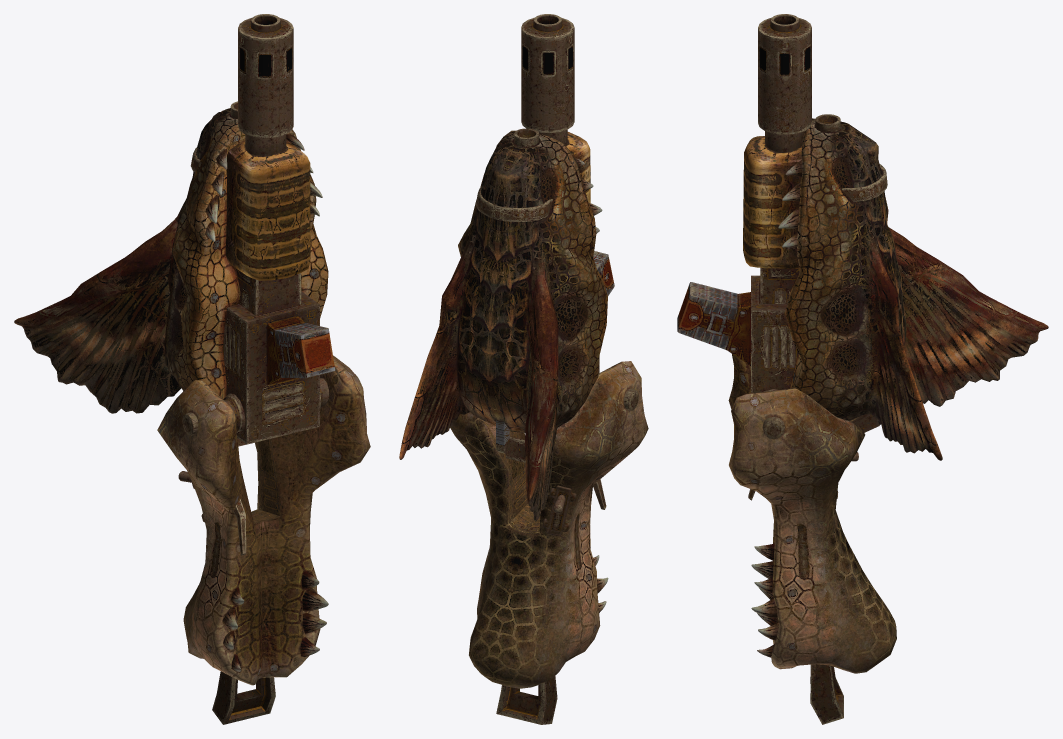
The model's file is hbg028.obj.
The picture shows the model from 3 angles, left to right: view 1: azimuth 30°, elevation 25°; view 2: azimuth 150°, elevation 25°; view 3: azimuth 270°, elevation 25°; orthographic projection. The views are drawn at different scales.
Visible parts, largest first — view 1: hbg028_000_LOD_1, hbg028_002_LOD_1, hbg028_001_LOD_1; view 2: hbg028_000_LOD_1, hbg028_002_LOD_1, hbg028_001_LOD_1; view 3: hbg028_000_LOD_1, hbg028_002_LOD_1, hbg028_001_LOD_1.
Boxes of the visible parts, <box> form: hbg028_000_LOD_1: <box>157,101,370,724</box>; hbg028_002_LOD_1: <box>14,217,181,413</box>; hbg028_001_LOD_1: <box>238,14,293,137</box>; hbg028_000_LOD_1: <box>399,128,648,724</box>; hbg028_002_LOD_1: <box>524,273,558,520</box>; hbg028_001_LOD_1: <box>521,14,574,132</box>; hbg028_000_LOD_1: <box>677,114,942,724</box>; hbg028_002_LOD_1: <box>889,227,1048,406</box>; hbg028_001_LOD_1: <box>758,14,811,134</box>.
Size of the model in its own units: 53.8 by 181 by 87.93.
